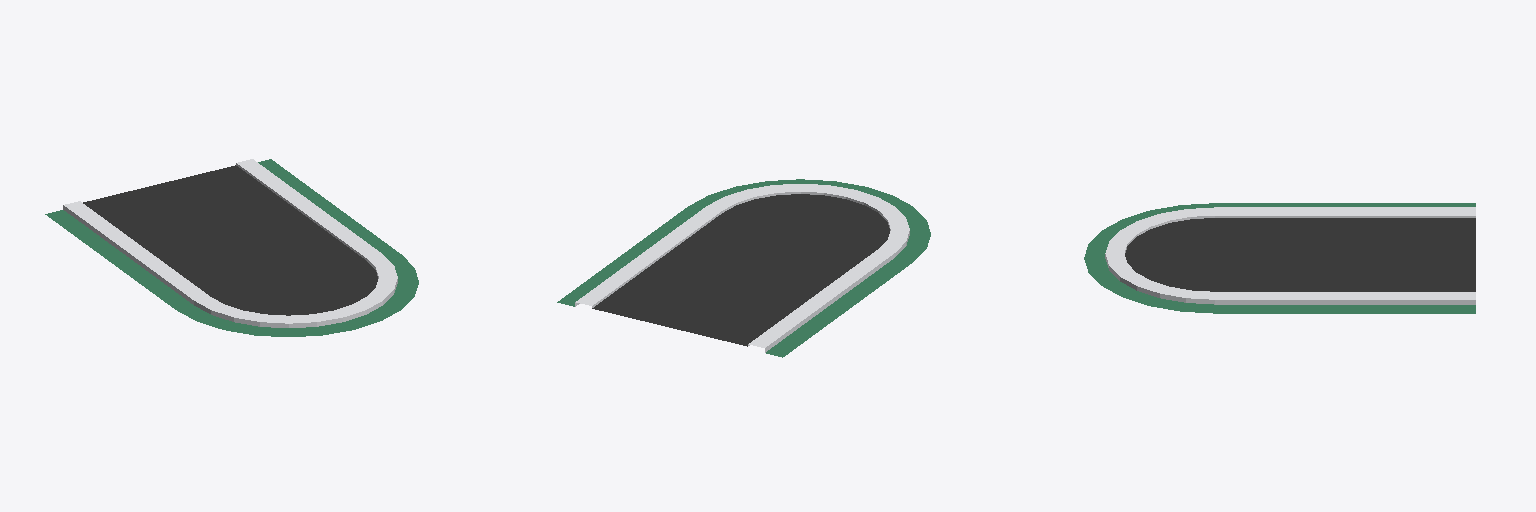
File: roadEnd.obj
3 renders of one model, left to right at view 1: azimuth 30°, elevation 25°; view 2: azimuth 150°, elevation 25°; view 3: azimuth 270°, elevation 25°, orthographic.
Parts seen in each view (by area): view 1: roadEnd; view 2: roadEnd; view 3: roadEnd.
Boxes of the visible parts, x1,y1,x2,y2 form: roadEnd: [45, 159, 418, 336]; roadEnd: [557, 179, 930, 357]; roadEnd: [1084, 203, 1475, 313].
Bounding box in the file's own units: 10 × 0.2 × 15.